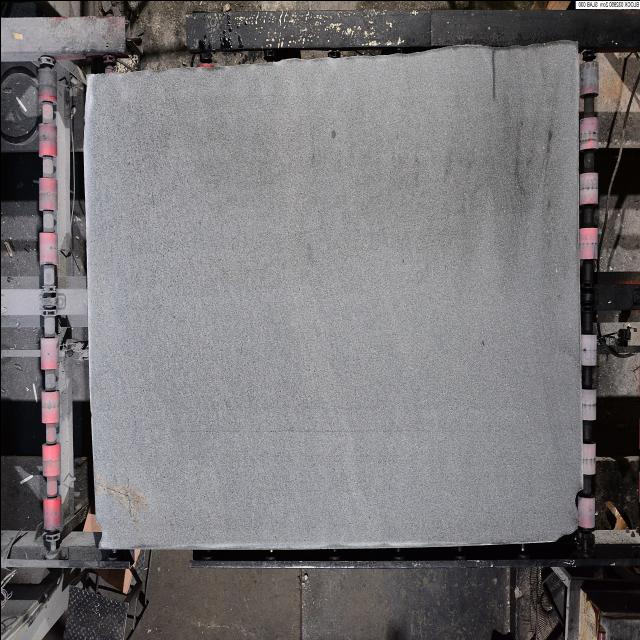chapa: (84, 41, 581, 548)
